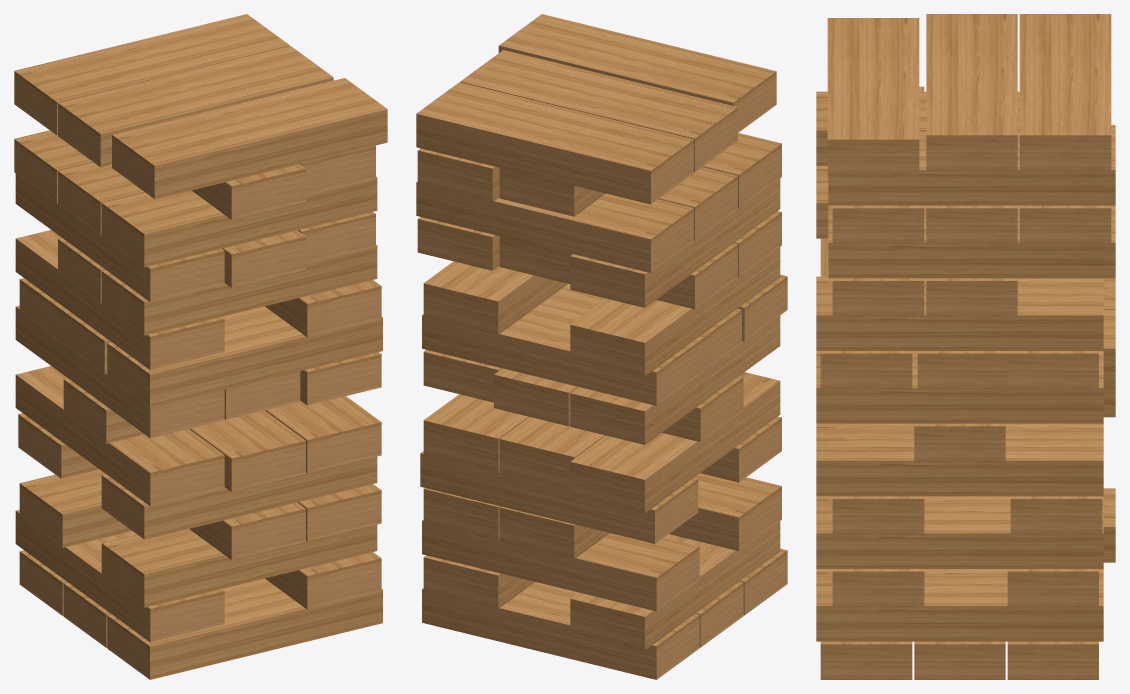
The model's file is Jenga.glb.
3 views of the same model, side by side, from view 1: azimuth 30°, elevation 25°; view 2: azimuth 150°, elevation 25°; view 3: azimuth 270°, elevation 25° (orthographic). The views are drawn at different scales.
Visible parts, largest first — view 1: pCube3.036, pCube3.022, pCube3.023, pCube3.030, pCube3.034, pCube3.014, pCube3.025, pCube3.005, pCube3.032, pCube3.027, pCube3.008, pCube3.002 (+24 smaller); view 2: pCube3.014, pCube3.010, pCube3.003, pCube3.036, pCube3.022, pCube3.007, pCube3.005, pCube3.001, pCube3.008, pCube3.004, pCube3.002, pCube3.006 (+24 smaller); view 3: pCube3.028, pCube3.036, pCube3.014, pCube3.022, pCube3.031, pCube3.024, pCube3.026, pCube3.033, pCube3.029, pCube3.035, pCube3.030, pCube3.034 (+18 smaller).
Boxes of the visible parts, x1,y1,x2,y2 form: pCube3.036: (112,78,387,199); pCube3.022: (58,46,333,167); pCube3.023: (107,578,382,679); pCube3.030: (107,306,382,407); pCube3.034: (101,176,377,267); pCube3.014: (14,14,289,135); pCube3.025: (101,524,377,607); pCube3.005: (15,366,224,506); pCube3.032: (101,244,377,335); pCube3.027: (101,456,377,539); pCube3.008: (15,230,224,370); pCube3.002: (15,510,224,642); pCube3.014: (416,82,693,204); pCube3.010: (416,181,693,272); pCube3.003: (422,519,699,611); pCube3.036: (498,14,776,132); pCube3.022: (460,50,737,172); pCube3.007: (422,303,698,405); pCube3.005: (570,372,780,513); pCube3.001: (422,582,699,679); pCube3.008: (570,247,780,376); pCube3.004: (420,451,698,543); pCube3.002: (570,521,780,650); pCube3.006: (570,315,780,444); pCube3.028: (816,423,1103,496); pCube3.036: (827,18,919,175); pCube3.014: (1019,14,1111,170); pCube3.022: (926,14,1017,170); pCube3.031: (816,276,1103,350); pCube3.024: (816,569,1103,641); pCube3.026: (816,496,1103,568); pCube3.033: (828,205,1115,278); pCube3.029: (816,351,1103,423); pCube3.035: (828,131,1115,205); pCube3.030: (820,238,912,389); pCube3.034: (832,86,924,243).
Size of the model in its own units: 0.0523 by 0.1056 by 0.0527.
Materials: 1 (1 with a texture image).
